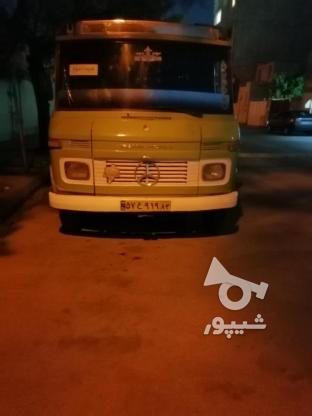car: (119, 200, 171, 211)
